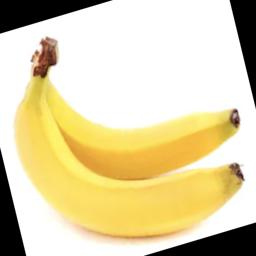Banana Fresh: (9, 29, 254, 249)
